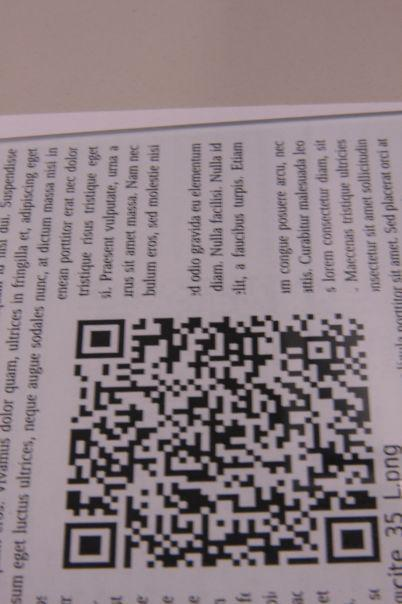Finder pattern: (319, 509, 387, 568), (56, 517, 120, 572), (71, 315, 129, 364)
